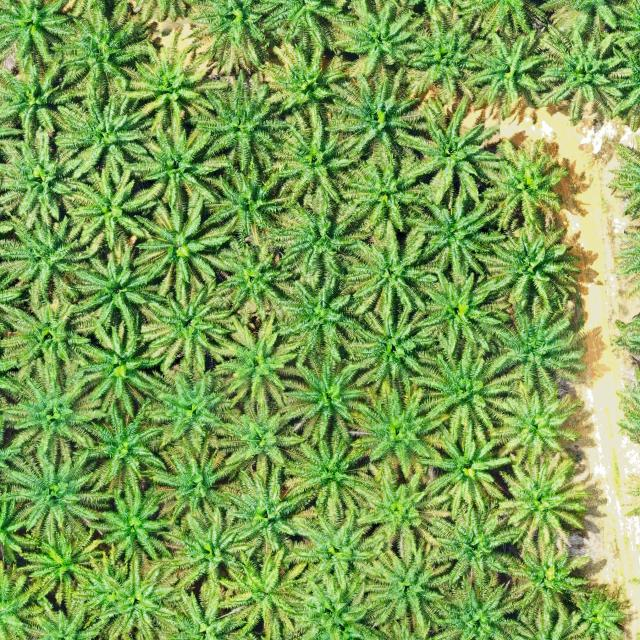Tree: (181, 66, 291, 176), (123, 33, 232, 141), (0, 441, 111, 545), (141, 272, 251, 376), (0, 356, 111, 455), (399, 96, 502, 199), (0, 211, 107, 310), (47, 0, 156, 97), (136, 200, 239, 302), (536, 25, 637, 129), (212, 313, 312, 418), (52, 83, 160, 180), (322, 66, 433, 159), (199, 151, 299, 250), (426, 494, 528, 591), (364, 540, 469, 634), (70, 396, 172, 491), (421, 340, 524, 434), (411, 186, 514, 279), (0, 125, 89, 232), (343, 220, 440, 318), (400, 5, 491, 109), (278, 105, 368, 210), (486, 224, 582, 322), (283, 510, 389, 598), (424, 420, 520, 517), (0, 292, 101, 384), (271, 271, 366, 368), (65, 557, 175, 640), (496, 453, 592, 548), (480, 137, 571, 237), (344, 302, 442, 394), (222, 547, 318, 640), (333, 147, 429, 239), (496, 302, 592, 393), (352, 385, 453, 471), (172, 508, 264, 601), (358, 465, 458, 548), (220, 461, 312, 551), (140, 126, 234, 214), (67, 167, 161, 255), (460, 29, 556, 115), (260, 40, 356, 126), (421, 270, 515, 357), (333, 0, 429, 85), (272, 195, 362, 285), (140, 364, 236, 447), (78, 245, 164, 334), (505, 538, 595, 622), (81, 324, 165, 414), (148, 432, 232, 521), (286, 356, 373, 440), (288, 434, 374, 518), (15, 525, 106, 604), (208, 236, 299, 314), (501, 386, 595, 461), (217, 404, 308, 481), (0, 53, 79, 140), (427, 573, 526, 640), (99, 486, 179, 565)
